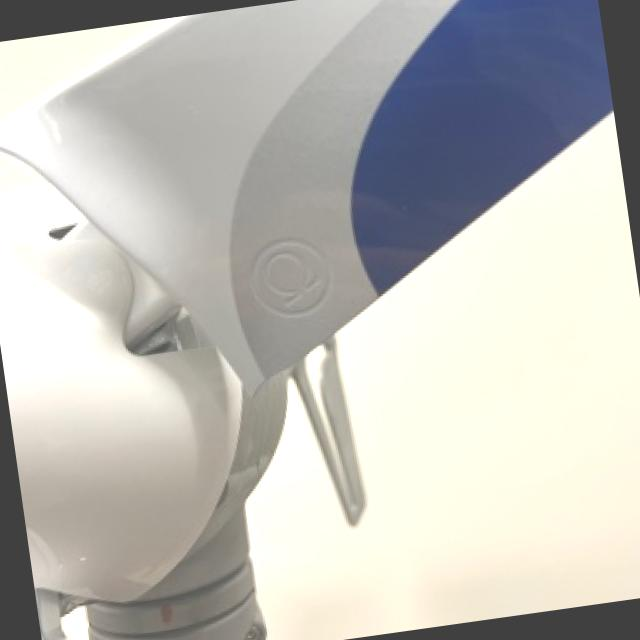healthy: (92, 594, 263, 640)
